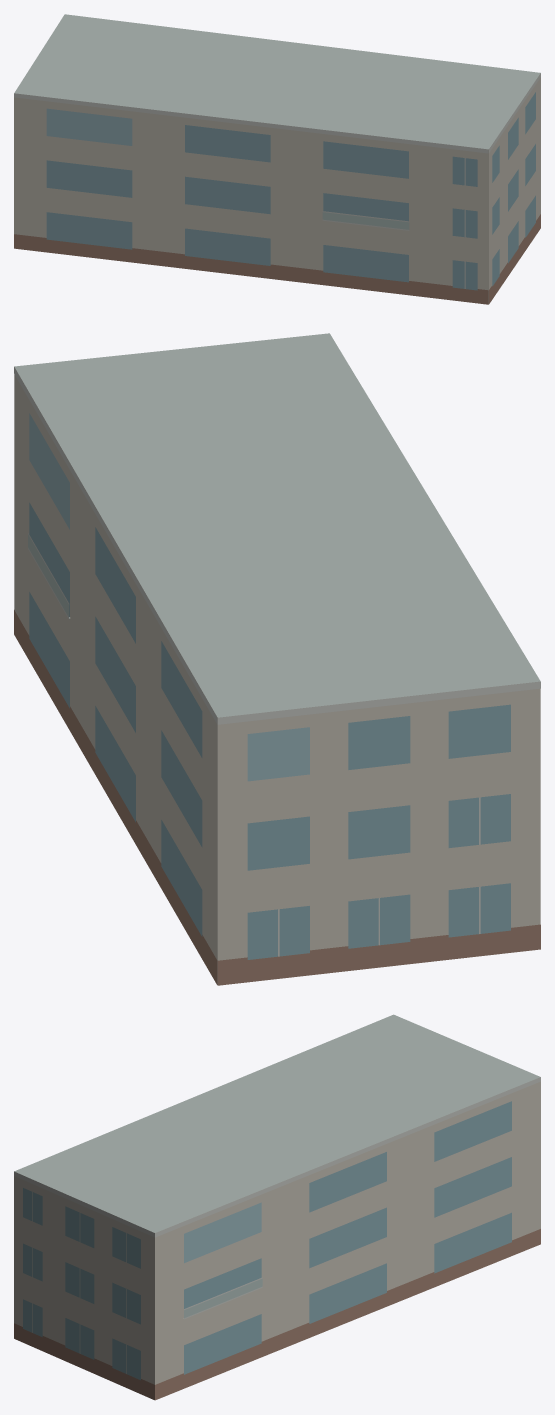
Rendered from survey-upis-32909769.glb.
3 views of the same model, one above another, from view 1: azimuth 30°, elevation 25°; view 2: azimuth 150°, elevation 25°; view 3: azimuth 270°, elevation 25° (orthographic). The views are drawn at different scales.
Visible parts, largest first — view 1: survey-upis-32909769.tmp; view 2: survey-upis-32909769.tmp; view 3: survey-upis-32909769.tmp.
Boxes of the visible parts, x1,y1,x2,y2 form: survey-upis-32909769.tmp: (14, 14, 540, 304); survey-upis-32909769.tmp: (14, 333, 540, 985); survey-upis-32909769.tmp: (14, 1014, 540, 1400).
Size of the model in its own units: 25.66 by 9.15 by 26.13.
